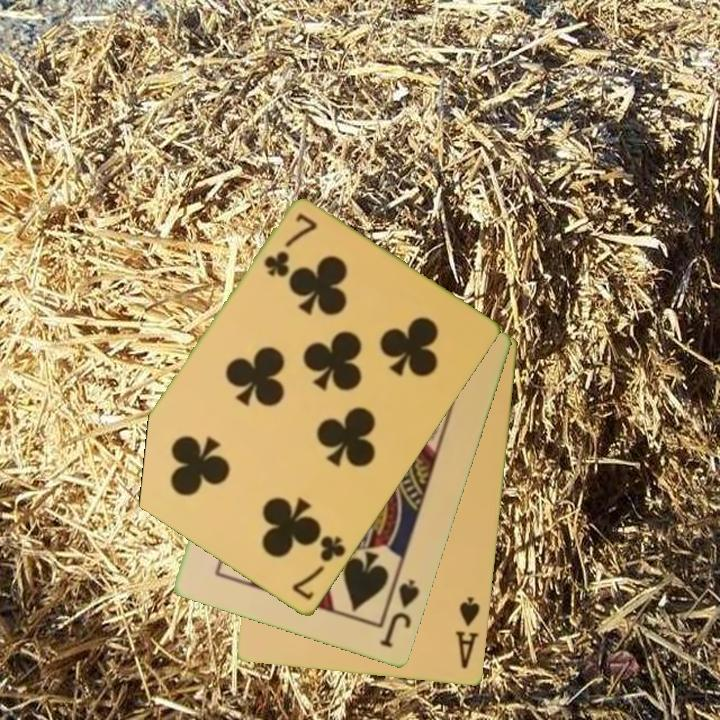7c: (288, 532, 349, 604), (260, 210, 320, 281)
As: (453, 594, 483, 672)
Js: (376, 576, 423, 651)
